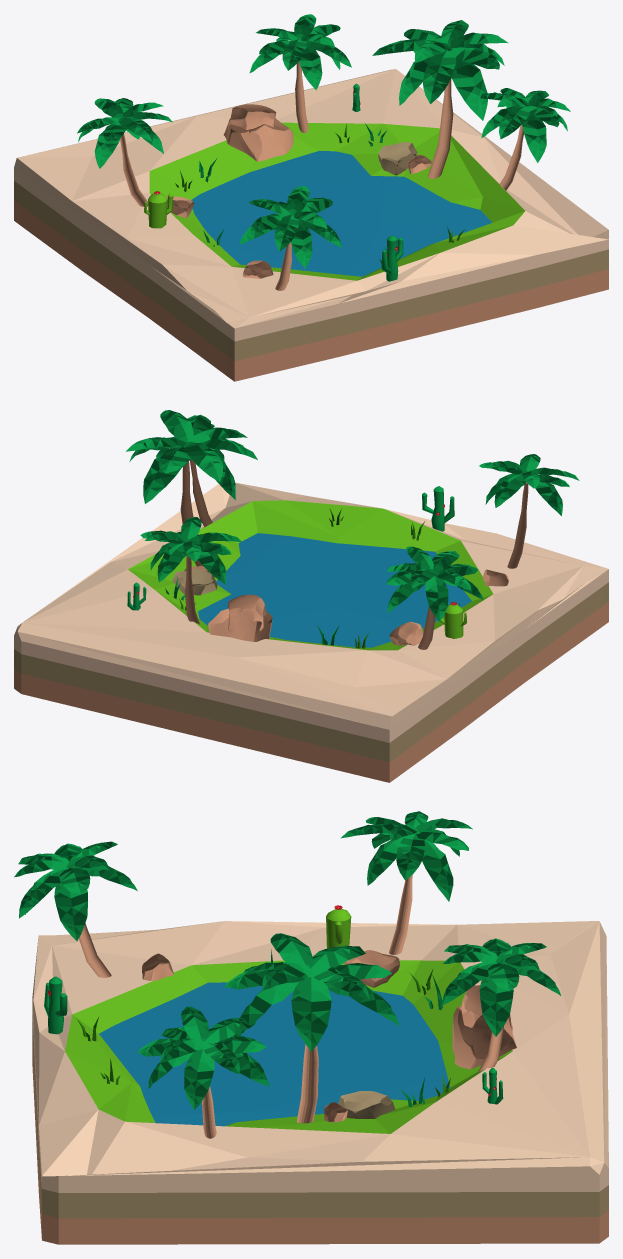
Rendered from 10_Oasis.fbx.
3 renders of one model, top to bottom at view 1: azimuth 30°, elevation 25°; view 2: azimuth 150°, elevation 25°; view 3: azimuth 270°, elevation 25°, orthographic. The views are drawn at different scales.
Parts seen in each view (by area): view 1: 10_Oasis_Map; view 2: 10_Oasis_Map; view 3: 10_Oasis_Map.
Part boxes in pixels (x1,y1,x2,y2): 10_Oasis_Map: (14,14,608,381); 10_Oasis_Map: (14,410,608,782); 10_Oasis_Map: (14,811,608,1244).
Bounding box in the file's own units: 0.9489 × 0.4404 × 0.9407.
